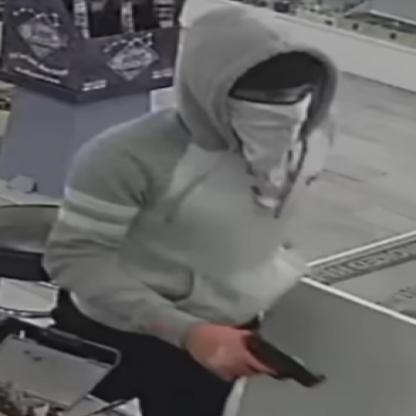criminal: (42, 4, 340, 416)
weapon: (238, 326, 328, 390)
